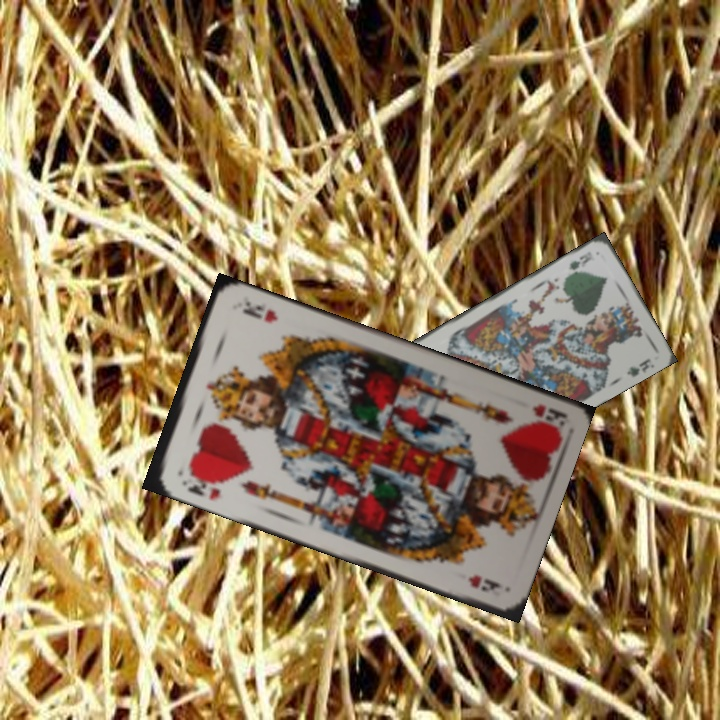GK: (564, 247, 595, 278)
HK: (177, 468, 226, 502), (528, 400, 566, 430)
